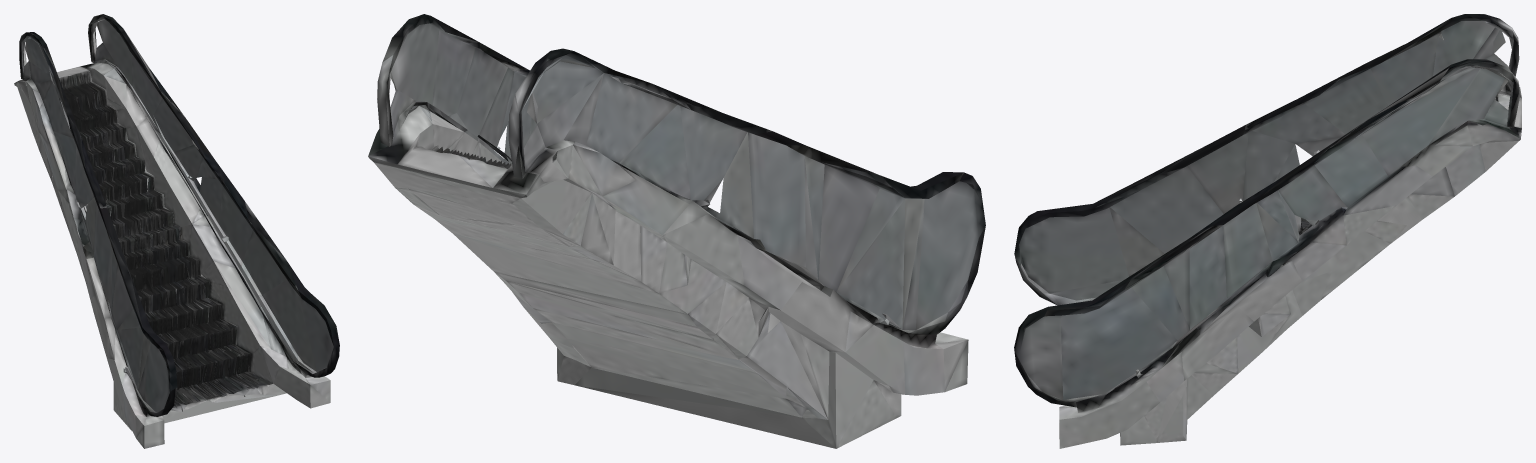
File: mall_escalator_low.glb
3 views of the same model, side by side, from view 1: azimuth 30°, elevation 25°; view 2: azimuth 150°, elevation 25°; view 3: azimuth 270°, elevation 25° (orthographic). The views are drawn at different scales.
Visible parts, largest first — view 1: mall_escalator; view 2: mall_escalator; view 3: mall_escalator.
Boxes of the visible parts, <box> form: mall_escalator: <box>14,14,339,448</box>; mall_escalator: <box>368,14,985,448</box>; mall_escalator: <box>1014,14,1521,448</box>.
Size of the model in its own units: 3.87 by 5.6 by 7.2.
Materials: 1 (1 with a texture image).
